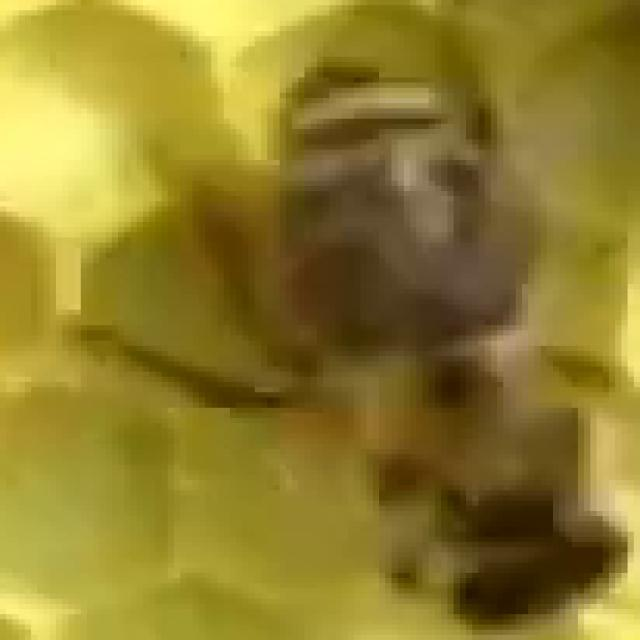honeybee: (105, 41, 640, 639)
